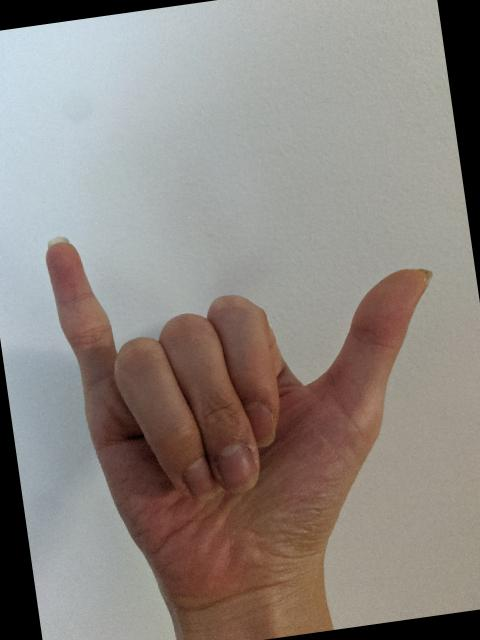Y: (35, 179, 480, 632)
